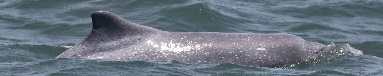fin: (49, 3, 373, 67)
